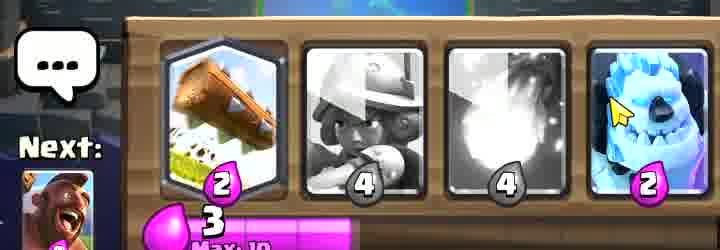hog-rider: (24, 171, 92, 250)
log: (168, 43, 280, 189)
